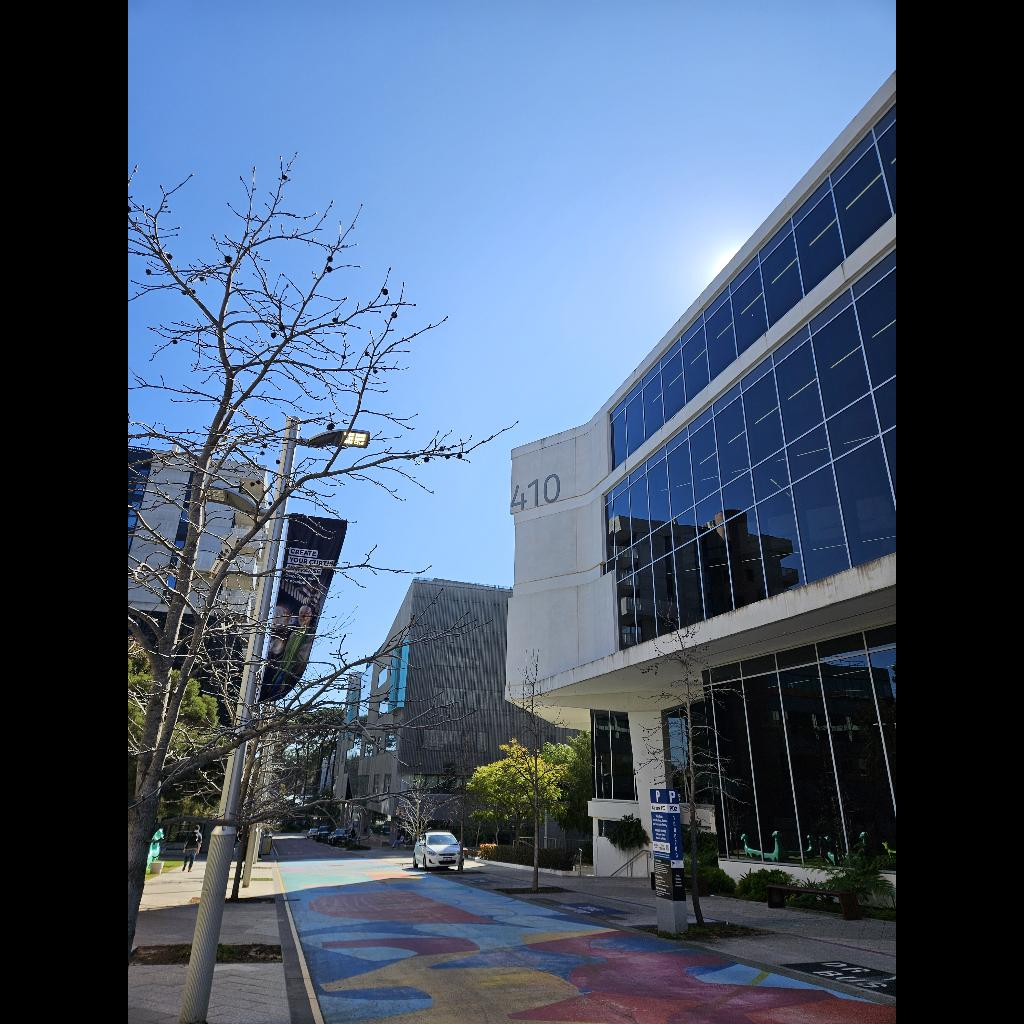BuildingCodes: (510, 474, 560, 510)
